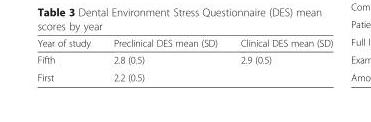table: (36, 37, 332, 82)
table column: (101, 37, 228, 82), (228, 37, 332, 82), (36, 37, 101, 82)
table column header: (36, 37, 332, 51)
table row: (36, 51, 332, 68), (36, 37, 332, 51), (36, 68, 332, 82)
